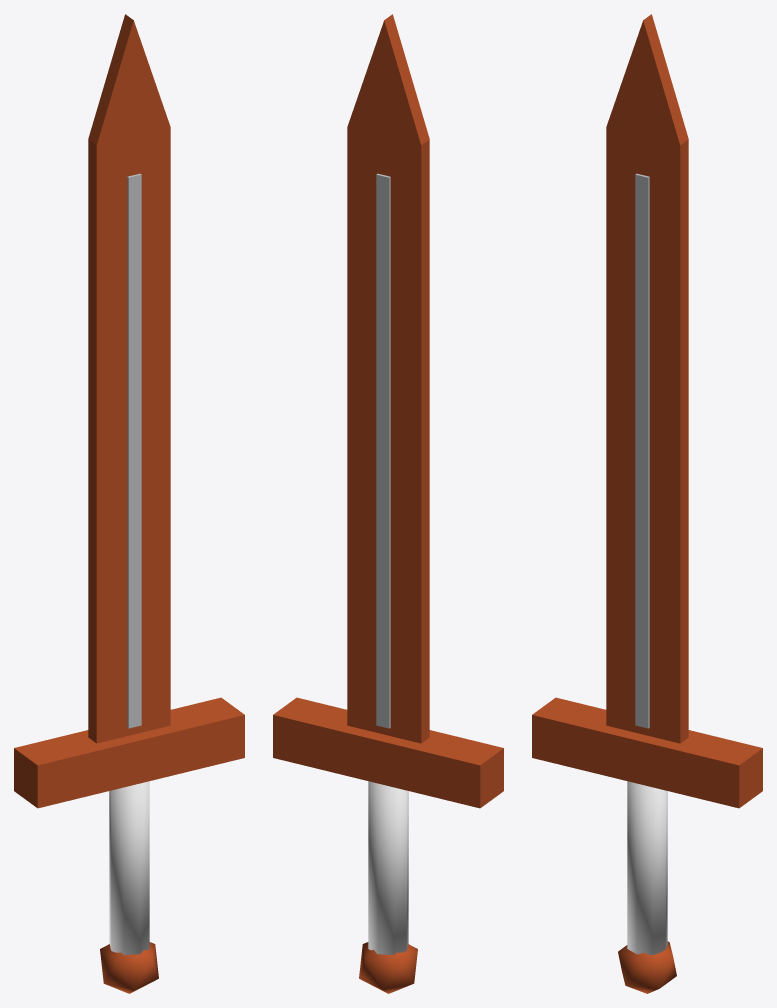
File: hellstone_broadsword.glb
3 renders of one model, left to right at view 1: azimuth 30°, elevation 25°; view 2: azimuth 150°, elevation 25°; view 3: azimuth 330°, elevation 25°, orthographic.
Visible parts, largest first — view 1: hellstone_broadsword_v0; view 2: hellstone_broadsword_v0; view 3: hellstone_broadsword_v0.
Boxes of the visible parts, box(x1,y1,x2,y2) form: hellstone_broadsword_v0: box(14, 14, 244, 993); hellstone_broadsword_v0: box(273, 14, 503, 993); hellstone_broadsword_v0: box(532, 14, 762, 993).
Size of the model in its own units: 0.252 by 1.13 by 0.0595.
